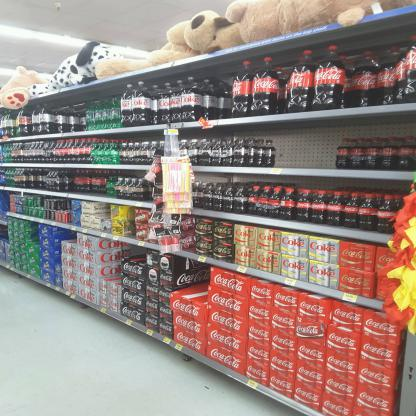Void: (272, 127, 334, 170), (178, 264, 207, 300)
